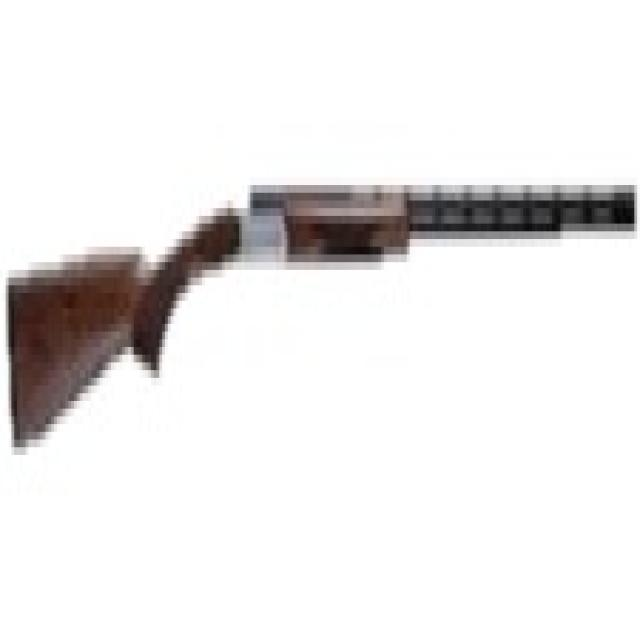rifle: (5, 166, 638, 466)
